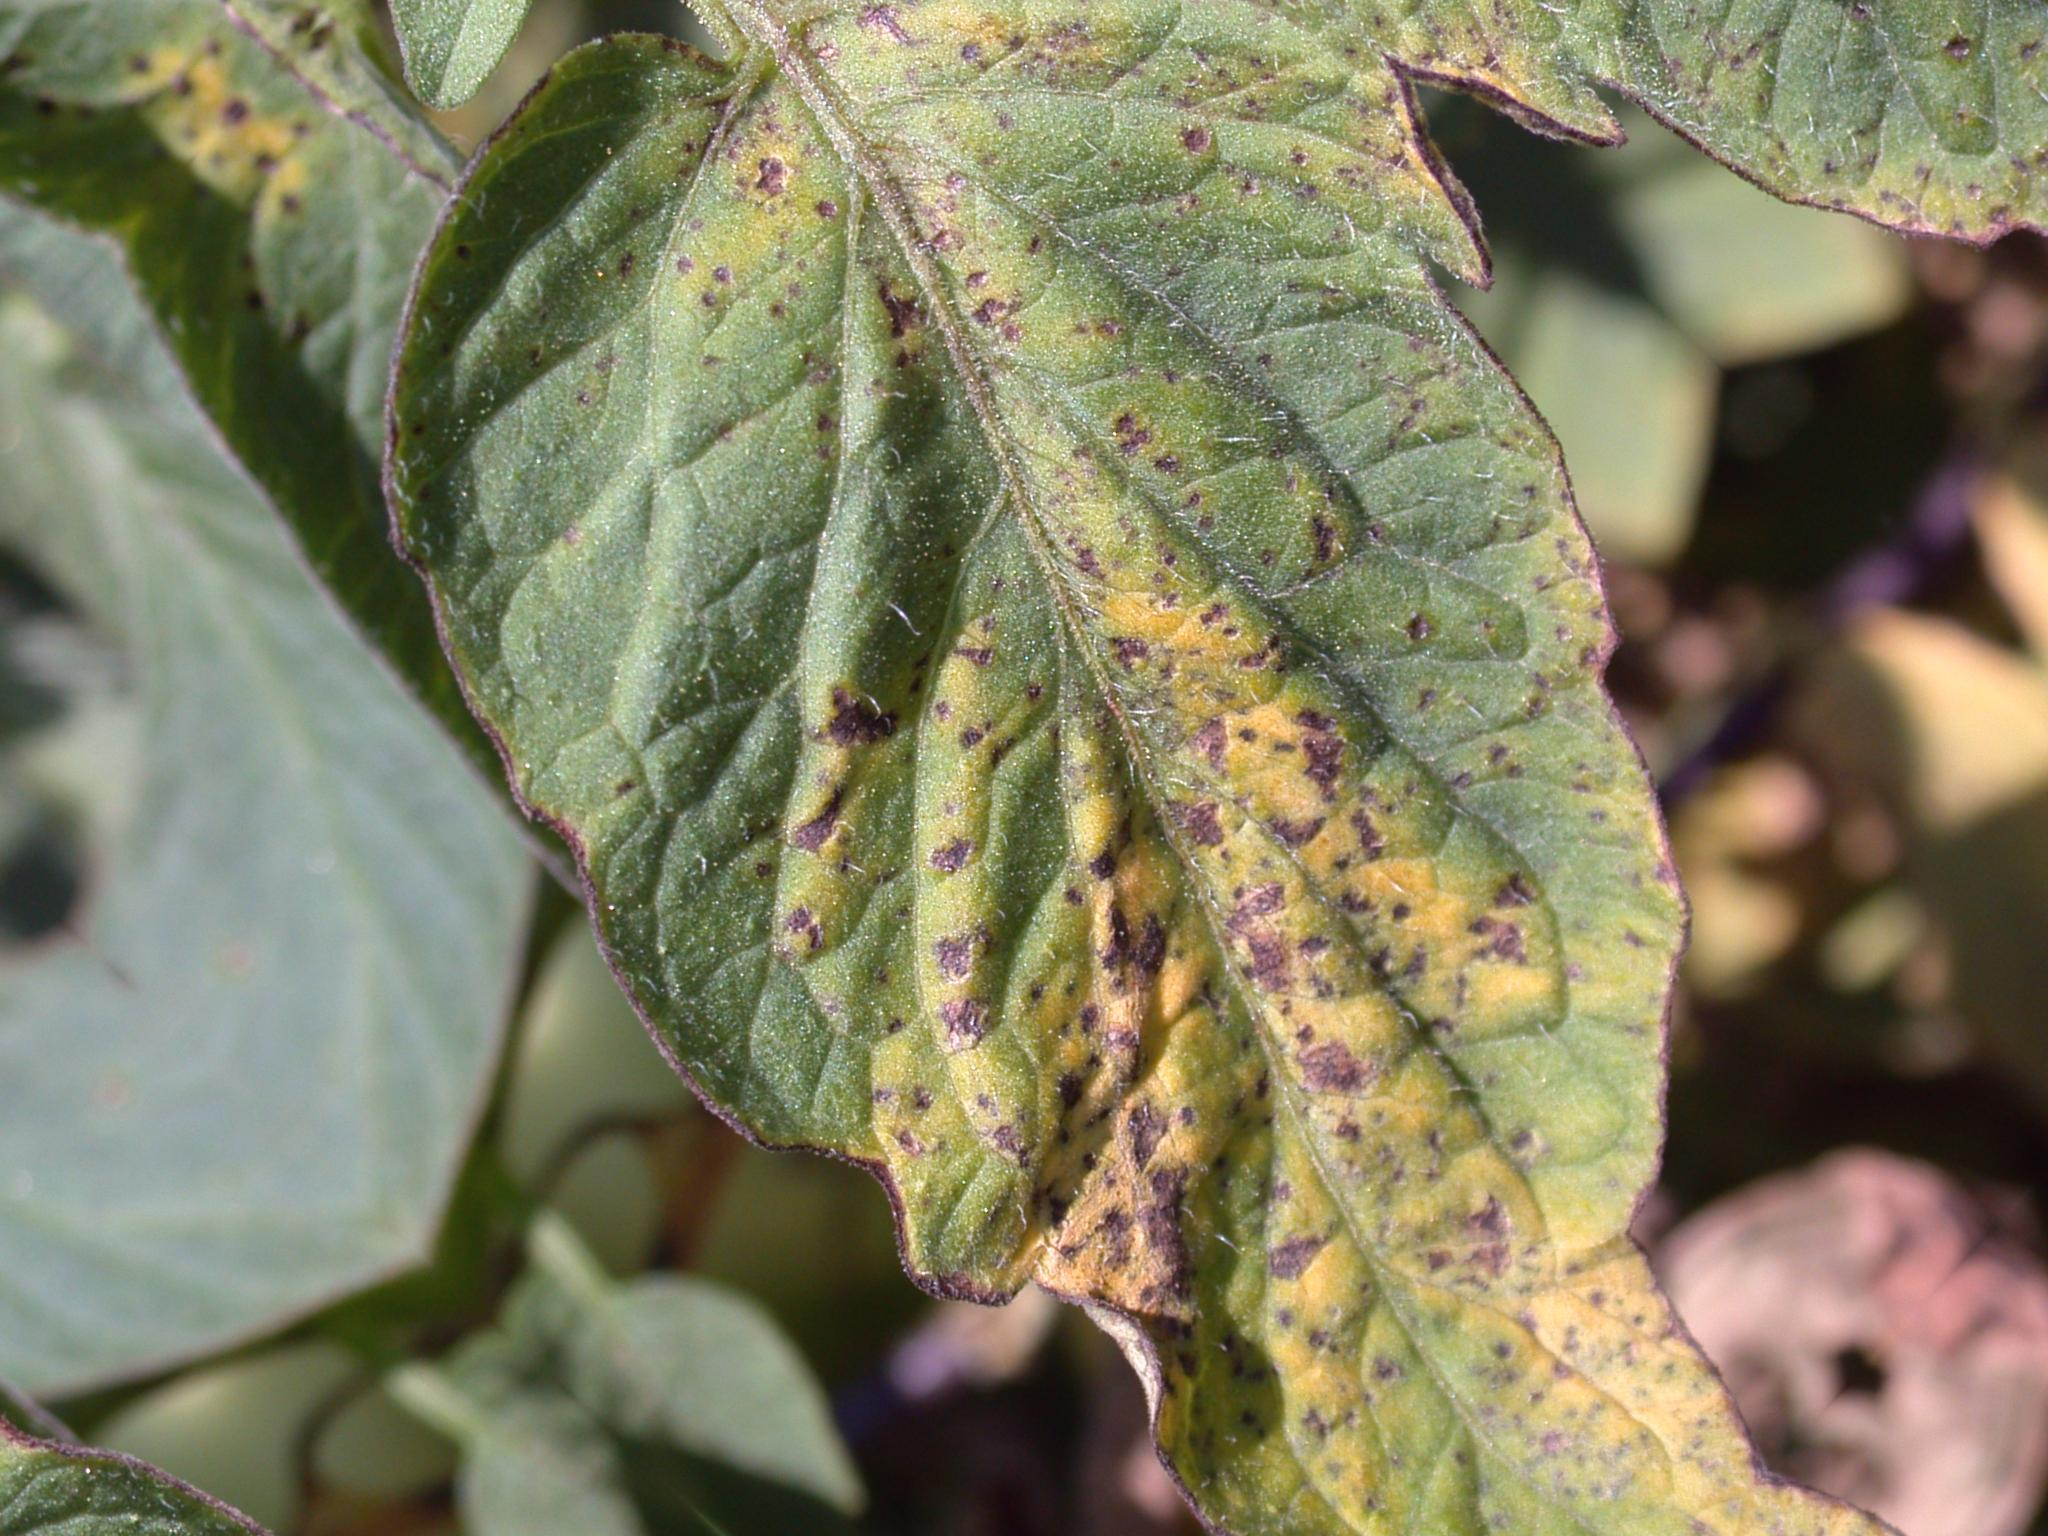Tomato leaf bacterial spot: (116, 0, 2048, 1536)
